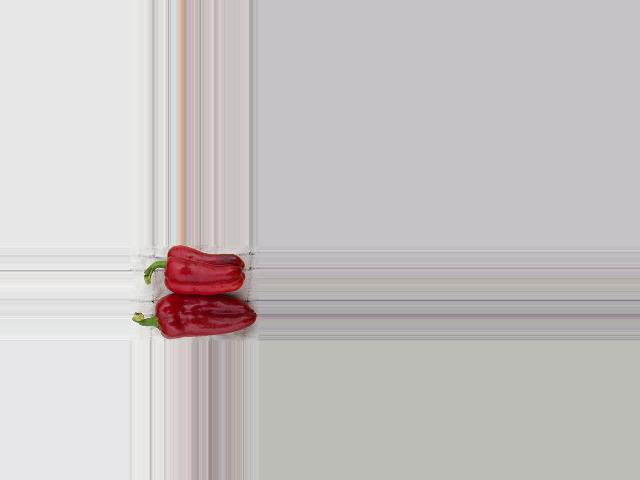bell_pepper: (128, 292, 256, 338)
